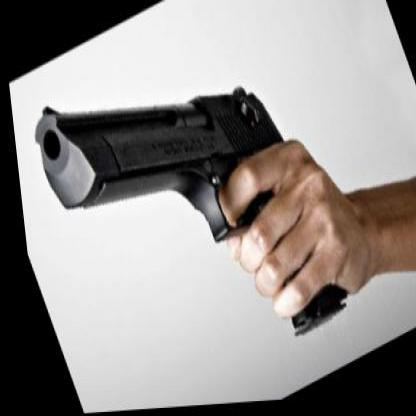pistol: (11, 0, 356, 413)
